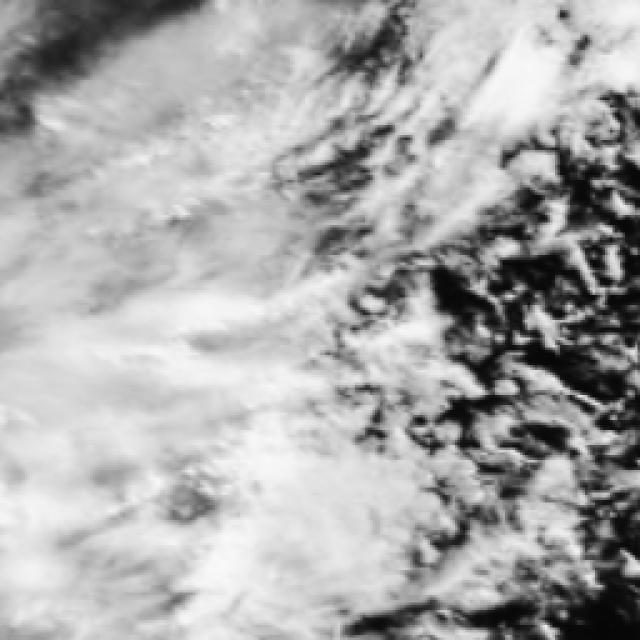CB: (0, 370, 210, 575), (3, 158, 205, 367), (188, 418, 344, 610)
